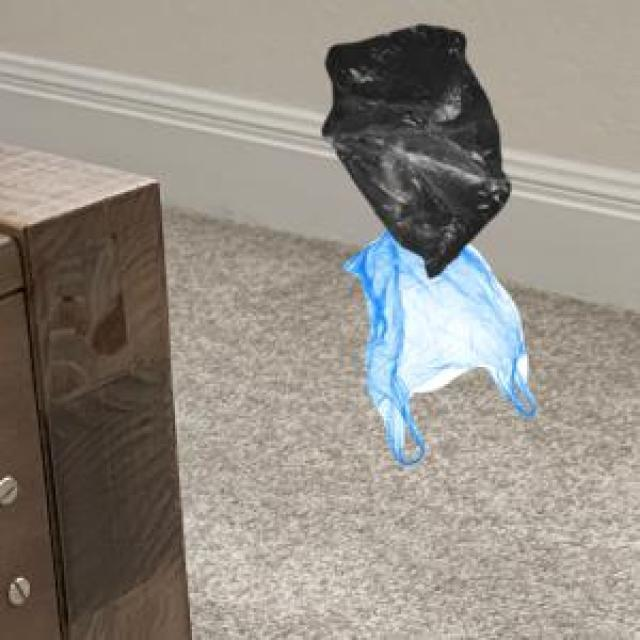waste: (322, 25, 511, 277), (344, 230, 538, 468)
